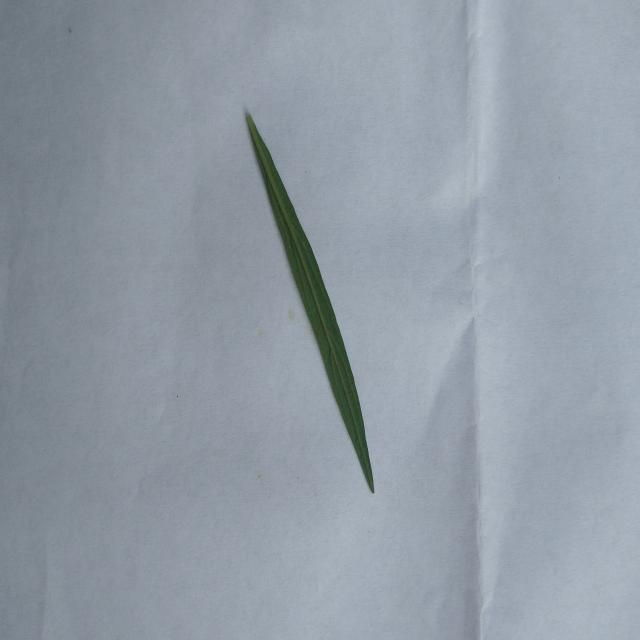thambe: (246, 113, 374, 493)
